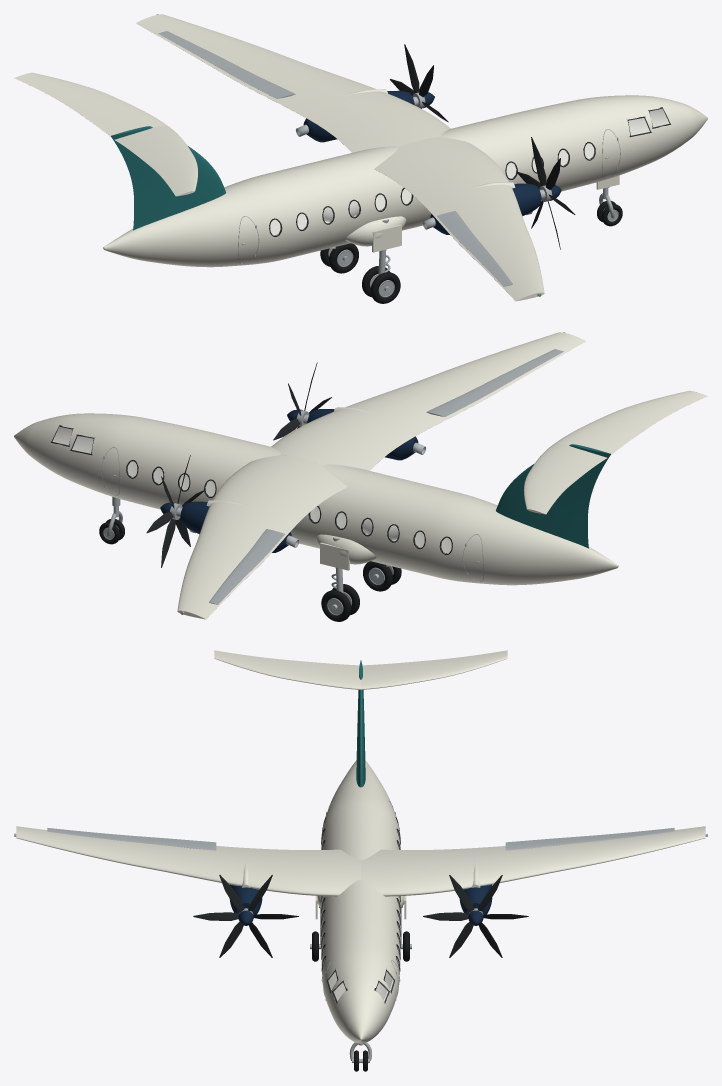
Rendered from innerscene-twin-turboprop.glb.
3 views of the same model, one above another, from view 1: azimuth 30°, elevation 25°; view 2: azimuth 150°, elevation 25°; view 3: azimuth 270°, elevation 25° (orthographic). The views are drawn at different scales.
Visible parts, largest first — view 1: Closed passenger access door 1 1, Shaped seated vertical stabilizer, Access door edge seal 1 1, Main wheel 1 1 rounded tyre carcass, Turboprop 1 shaped engine nacelle, Flight deck seated frame 1 1, Flush door handle 1 1; view 2: Closed passenger access door 1 1, Access door edge seal 1 1, Shaped seated vertical stabilizer, Main wheel 1 1 rounded tyre carcass, Turboprop 1 shaped engine nacelle, Flight deck seated frame 1 1, Flush door handle 1 1; view 3: Closed passenger access door 1 1, Access door edge seal 1 1, Turboprop 1 shaped engine nacelle, Shaped seated vertical stabilizer, Flight deck seated frame 1 1.
Part boxes in pixels (x1=…): Closed passenger access door 1 1: x1=14, y1=14, x2=707, y2=301; Shaped seated vertical stabilizer: x1=111, y1=126, x2=225, y2=230; Access door edge seal 1 1: x1=156, y1=14, x2=620, y2=297; Main wheel 1 1 rounded tyre carcass: x1=320, y1=201, x2=622, y2=303; Turboprop 1 shaped engine nacelle: x1=303, y1=90, x2=561, y2=234; Flight deck seated frame 1 1: x1=269, y1=107, x2=670, y2=236; Flush door handle 1 1: x1=242, y1=96, x2=616, y2=292; Closed passenger access door 1 1: x1=14, y1=332, x2=707, y2=619; Access door edge seal 1 1: x1=101, y1=332, x2=565, y2=615; Shaped seated vertical stabilizer: x1=496, y1=444, x2=610, y2=548; Main wheel 1 1 rounded tyre carcass: x1=99, y1=519, x2=401, y2=621; Turboprop 1 shaped engine nacelle: x1=160, y1=409, x2=418, y2=552; Flight deck seated frame 1 1: x1=51, y1=425, x2=452, y2=554; Flush door handle 1 1: x1=105, y1=414, x2=479, y2=610; Closed passenger access door 1 1: x1=16, y1=650, x2=705, y2=1043; Access door edge seal 1 1: x1=14, y1=800, x2=707, y2=1063; Turboprop 1 shaped engine nacelle: x1=229, y1=884, x2=492, y2=925; Shaped seated vertical stabilizer: x1=356, y1=660, x2=365, y2=787; Flight deck seated frame 1 1: x1=321, y1=817, x2=400, y2=1003.
Bounding box in the file's own units: 22.33 × 7.44 × 24.16.
10 materials, 10 textured.
